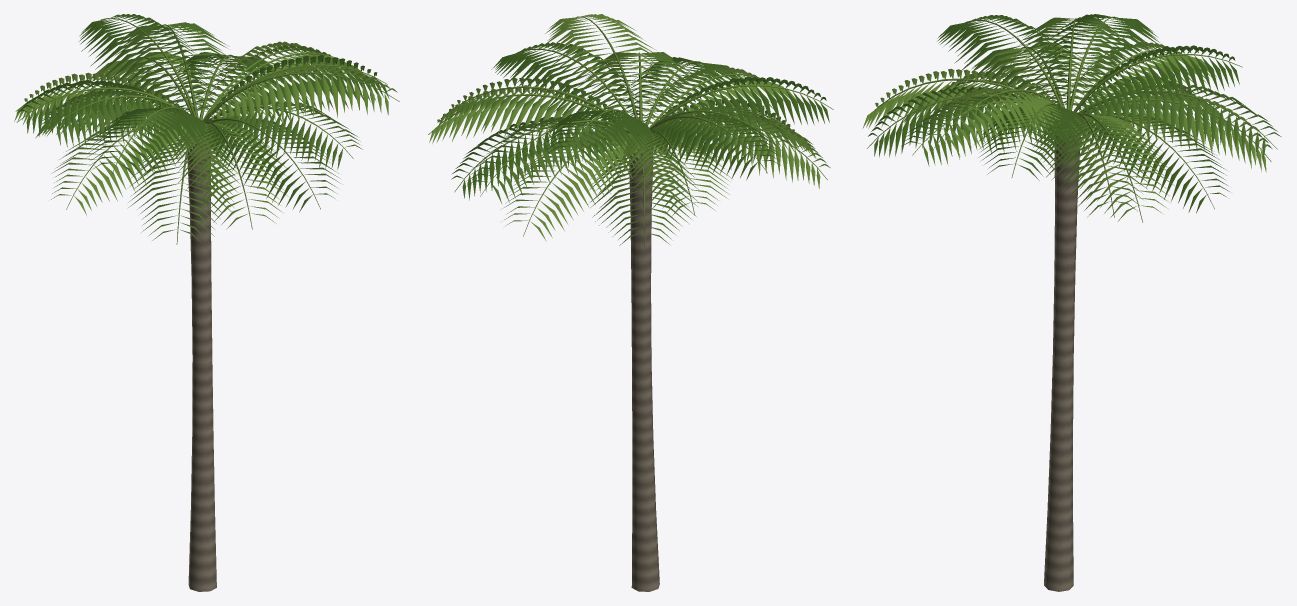
The model's file is tree_palm.glb.
The picture shows the model from 3 angles, left to right: view 1: azimuth 30°, elevation 25°; view 2: azimuth 150°, elevation 25°; view 3: azimuth 270°, elevation 25°; orthographic projection. The views are drawn at different scales.
Parts seen in each view (by area): view 1: palm_fronds_lod0, palm_trunk_lod0, palm_rachis16_lod0; view 2: palm_fronds_lod0, palm_trunk_lod0; view 3: palm_fronds_lod0, palm_trunk_lod0.
Boxes of the visible parts, x1,y1,x2,y2 form: palm_fronds_lod0: (14,14,397,243); palm_trunk_lod0: (187,137,216,591); palm_rachis16_lod0: (203,72,399,122); palm_fronds_lod0: (429,14,830,245); palm_trunk_lod0: (629,145,659,591); palm_fronds_lod0: (862,14,1281,221); palm_trunk_lod0: (1044,134,1080,591).
Size of what is drawn, in the model's own units: 5.45 by 7.79 by 5.62.
Materials: 4 (1 with a texture image).
